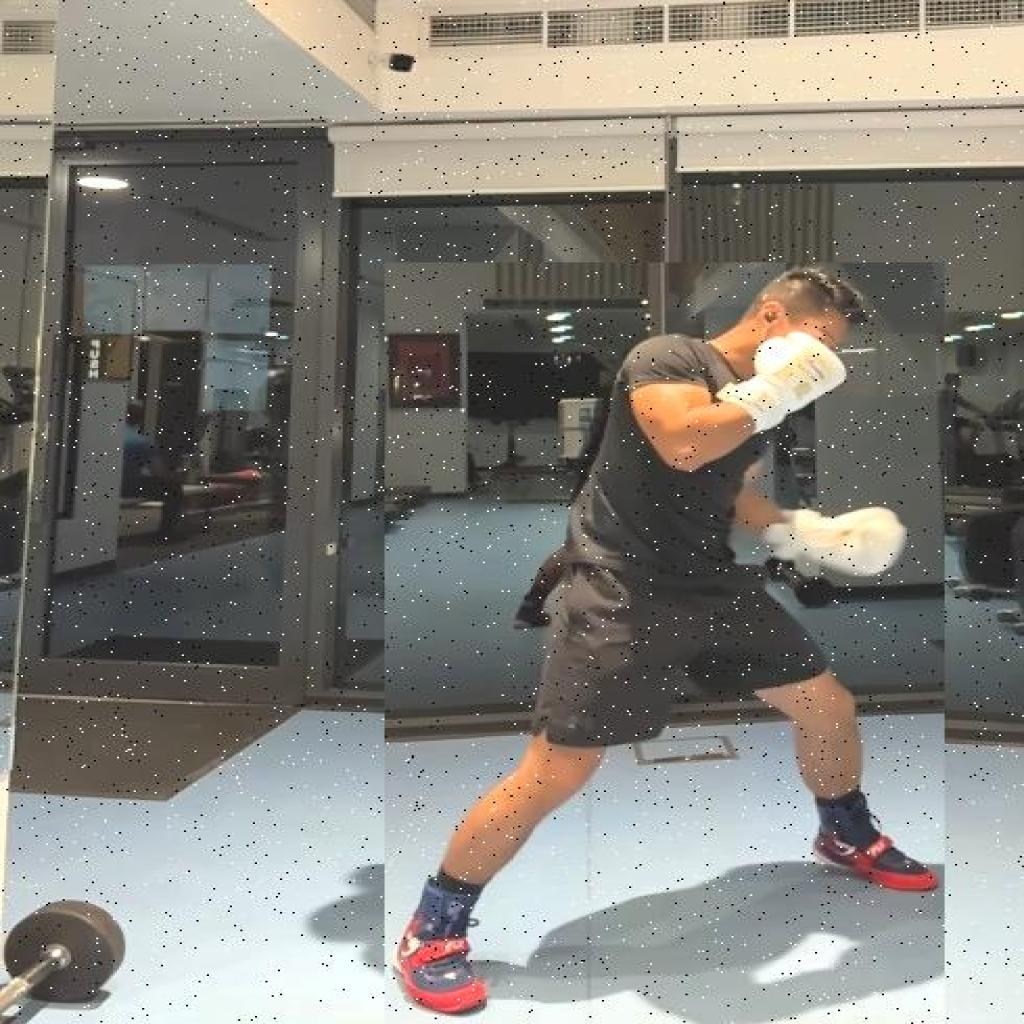uppercut: (384, 262, 944, 1024)
